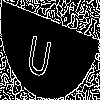U: (25, 25, 55, 80)
